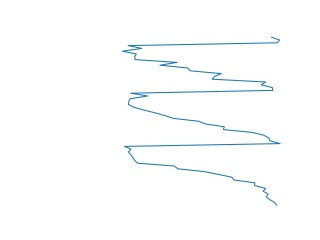distributaryMouthBar: (120, 36, 284, 207)
